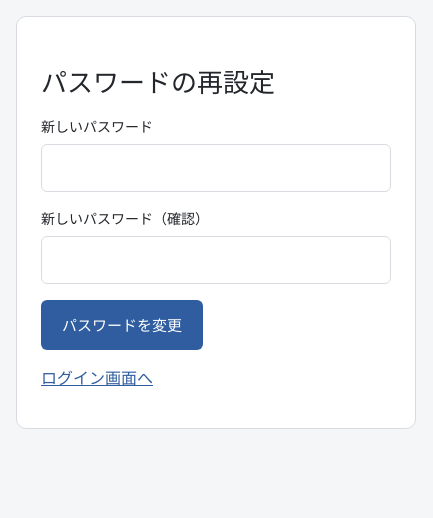
Test case: ResetPasswordPage › 未入力で送信するとエラーメッセージを表示しAPIを呼ばない
The width and height of the screenshot is (433, 518).
Click the button "パスワードを変更": (122,325) [41,300,203,350]
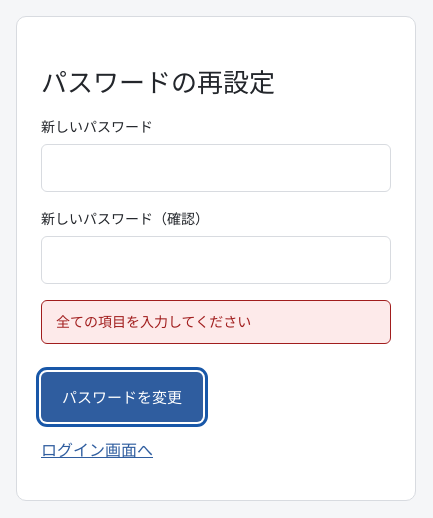
Check: the message reads "全ての項目を入力してください", box [56,312,251,331]
